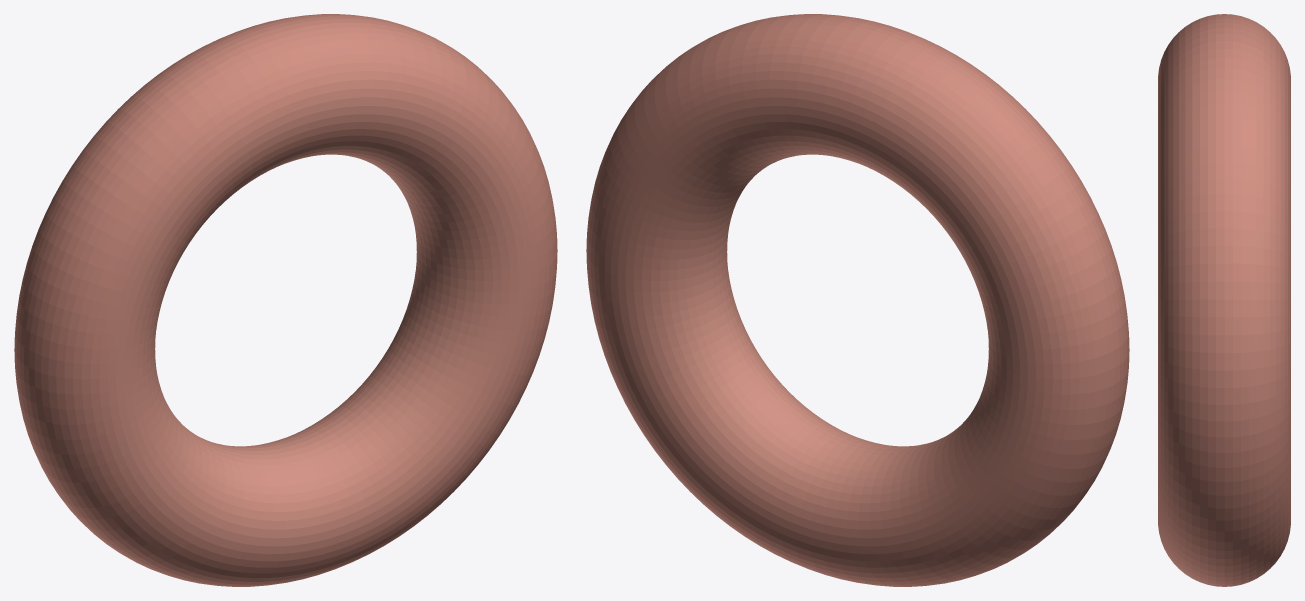
3 views of the same model, side by side, from view 1: azimuth 30°, elevation 25°; view 2: azimuth 150°, elevation 25°; view 3: azimuth 270°, elevation 25° (orthographic). The views are drawn at different scales.
Parts seen in each view (by area): view 1: world; view 2: world; view 3: world.
Part boxes in pixels (bbox=[...]): world: bbox=[14, 14, 557, 586]; world: bbox=[586, 14, 1129, 586]; world: bbox=[1158, 14, 1290, 586].
Size of the model in its own units: 30.4 by 30.4 by 7.05.
